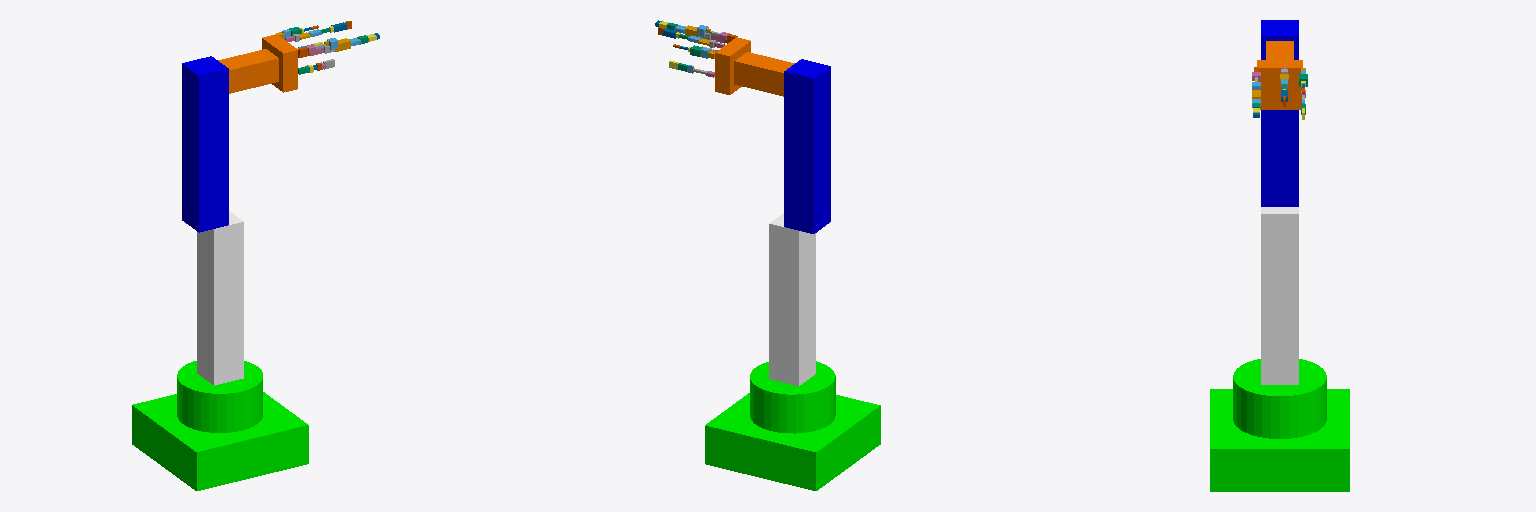
--- Render facts (derived) ---
3 views of the same robot in one strip: view 1: azimuth 30°, elevation 25°; view 2: azimuth 150°, elevation 25°; view 3: azimuth 270°, elevation 25° (orthographic).
Robot: robot — 44 links, 43 joints (40 revolute, 1 continuous, 2 fixed); root link base_link; default pose: all joints at 0.
Links seen in each view (by area): view 1: base_link, arm_link, support_link, wrist_link, palm_link; view 2: base_link, arm_link, support_link, wrist_link, palm_link; view 3: base_link, support_link, arm_link, palm_link, wrist_link.
Boxes of the visible links, <box> form: base_link: <box>132,361,308,490</box>; arm_link: <box>182,56,228,232</box>; support_link: <box>197,211,243,385</box>; wrist_link: <box>218,49,278,93</box>; palm_link: <box>262,34,297,92</box>; base_link: <box>705,361,880,490</box>; arm_link: <box>784,59,830,233</box>; support_link: <box>769,213,815,385</box>; wrist_link: <box>734,52,794,96</box>; palm_link: <box>715,37,750,94</box>; base_link: <box>1210,359,1349,491</box>; support_link: <box>1261,207,1298,384</box>; arm_link: <box>1261,20,1298,206</box>; palm_link: <box>1257,60,1302,109</box>; wrist_link: <box>1266,41,1293,59</box>.
Size in the robot's own frame: 1.36 by 0.75 by 2.55 metres.
Geometry: primitives only (box / cylinder / sphere), no mesh files.

robot.urdf — robot:
<?xml version='1.0' encoding='utf-8'?>
<robot name="robot">
  <link name="base_link">
    <visual>
      <origin xyz="0 0 0.125" rpy="0 0 0" />
      <geometry>
        <box size="0.75 0.75 0.25" />
      </geometry>
      <material name="green" />
    </visual>
    <visual>
      <origin xyz="0 0 0.375" rpy="0 0 0" />
      <geometry>
        <cylinder length="0.25" radius="0.25" />
      </geometry>
      <material name="green">
        <color rgba="0 1 0 1" />
      </material>
    </visual>
    <collision>
      <geometry>
        <box size="0.75 0.75 0.5" />
      </geometry>
    </collision>
    <inertial>
      <mass value="0.5" />
      <inertia ixx="0.034" ixy="0.0" ixz="0.0" iyy="0.034" iyz="0.0" izz="0.034" />
    </inertial>
  </link>
  <link name="support_link">
    <visual>
      <origin xyz="0 0 0.5" rpy="0 0 0" />
      <geometry>
        <box size="0.2 0.2 1" />
      </geometry>
      <material name="white">
        <color rgba="1 1 1 1" />
      </material>
    </visual>
    <collision>
      <geometry>
        <box size="0.2 0.2 1" />
      </geometry>
    </collision>
    <inertial>
      <mass value="0.1" />
      <inertia ixx="0.01" ixy="0.0" ixz="0.0" iyy="0.01" iyz="0.0" izz="0.01" />
    </inertial>
  </link>
  <joint name="support_joint" type="continuous">
    <origin xyz="0 0 0.5" rpy="0 0 0" />
    <parent link="base_link" />
    <child link="support_link" />
    <axis xyz="0 0 1" />
  </joint>
  <link name="arm_link">
    <visual>
      <origin xyz="0 0 0.5" rpy="0 0 0" />
      <geometry>
        <box size="0.2 0.2 1" />
      </geometry>
      <material name="blue">
        <color rgba="0 0 1 1" />
      </material>
    </visual>
    <collision>
      <geometry>
        <box size="0.2 0.2 1" />
      </geometry>
    </collision>
    <inertial>
      <mass value="0.1" />
      <inertia ixx="0.01" ixy="0.0" ixz="0.0" iyy="0.01" iyz="0.0" izz="0.01" />
    </inertial>
  </link>
  <joint name="arm_joint" type="revolute">
    <origin xyz="-0.1 0 1" rpy="0 0 0" />
    <parent link="support_link" />
    <child link="arm_link" />
    <axis xyz="0 1 0" />
    <limit lower="-3.14" upper="3.14" effort="1.0" velocity="1.0" />
  </joint>
  <link name="wrist_link">
    <visual>
      <origin xyz="0 0 0.25" rpy="0 0 0" />
      <geometry>
        <box size="0.15 0.15 0.5" />
      </geometry>
      <material name="orange">
        <color rgba="1 0.5 0 1" />
      </material>
    </visual>
    <collision>
      <geometry>
        <box size="0.15 0.15 0.5" />
      </geometry>
    </collision>
    <inertial>
      <mass value="0.1" />
      <inertia ixx="0.01" ixy="0.0" ixz="0.0" iyy="0.01" iyz="0.0" izz="0.01" />
    </inertial>
  </link>
  <joint name="wrist_joint" type="fixed">
    <origin xyz="0 0 0.9" rpy="0 1.571 0" />
    <parent link="arm_link" />
    <child link="wrist_link" />
  </joint>
  <link name="palm_link">
    <visual>
      <origin xyz="0 0 0.05" rpy="0 0 0" />
      <geometry>
        <box size="0.25 0.25 0.1" />
      </geometry>
      <material name="orange" />
    </visual>
    <collision>
      <geometry>
        <box size="0.25 0.25 0.1" />
      </geometry>
    </collision>
    <inertial>
      <mass value="0.1" />
      <inertia ixx="0.01" ixy="0.0" ixz="0.0" iyy="0.01" iyz="0.0" izz="0.01" />
    </inertial>
  </link>
  <joint name="palm_joint" type="fixed">
    <origin xyz="0 0 0.45" rpy="0 0 0" />
    <parent link="wrist_link" />
    <child link="palm_link" />
  </joint>
  <link name="finger_link_0_0">
    <visual>
      <origin xyz="0 0 0.0385" rpy="0 0 0" />
      <geometry>
        <box size="0.028 0.02 0.077" />
      </geometry>
    </visual>
    <collision>
      <geometry>
        <box size="0.028 0.02 0.077" />
      </geometry>
    </collision>
    <inertial>
      <mass value="0.013" />
      <inertia ixx="0.0" iyy="0.0" izz="0.0" ixy="0" ixz="0" iyz="0" />
    </inertial>
  </link>
  <joint name="finger_joint_palm_link_to_finger_link_0_0" type="revolute">
    <origin xyz="-0.089 -0.125 0.1" rpy="0 0 0" />
    <parent link="palm_link" />
    <child link="finger_link_0_0" />
    <axis xyz="1.0 0.0 0.0" />
    <limit lower="-3.142" upper="3.142" effort="10" velocity="10" />
  </joint>
  <link name="finger_link_0_1">
    <visual>
      <origin xyz="0 0 0.045" rpy="0 0 0" />
      <geometry>
        <box size="0.041 0.014 0.09" />
      </geometry>
    </visual>
    <collision>
      <geometry>
        <box size="0.041 0.014 0.09" />
      </geometry>
    </collision>
    <inertial>
      <mass value="0.015" />
      <inertia ixx="0.0" iyy="0.0" izz="0.0" ixy="0" ixz="0" iyz="0" />
    </inertial>
  </link>
  <joint name="finger_joint_finger_link_0_0_to_finger_link_0_1" type="revolute">
    <origin xyz="0.0 0.0 0.077" rpy="0 0 0" />
    <parent link="finger_link_0_0" />
    <child link="finger_link_0_1" />
    <axis xyz="0.0 1.0 0.0" />
    <limit lower="-3.142" upper="3.142" effort="10" velocity="10" />
  </joint>
  <link name="finger_link_0_2">
    <visual>
      <origin xyz="0 0 0.035" rpy="0 0 0" />
      <geometry>
        <box size="0.041 0.041 0.07" />
      </geometry>
    </visual>
    <collision>
      <geometry>
        <box size="0.041 0.041 0.07" />
      </geometry>
    </collision>
    <inertial>
      <mass value="0.035" />
      <inertia ixx="0.0" iyy="0.0" izz="0.0" ixy="0" ixz="0" iyz="0" />
    </inertial>
  </link>
  <joint name="finger_joint_finger_link_0_1_to_finger_link_0_2" type="revolute">
    <origin xyz="0.0 0.0 0.09" rpy="0 0 0" />
    <parent link="finger_link_0_1" />
    <child link="finger_link_0_2" />
    <axis xyz="0.0 1.0 0.0" />
    <limit lower="-3.142" upper="3.142" effort="10" velocity="10" />
  </joint>
  <link name="finger_link_0_3">
    <visual>
      <origin xyz="0 0 0.0495" rpy="0 0 0" />
      <geometry>
        <box size="0.048 0.047 0.099" />
      </geometry>
    </visual>
    <collision>
      <geometry>
        <box size="0.048 0.047 0.099" />
      </geometry>
    </collision>
    <inertial>
      <mass value="0.067" />
      <inertia ixx="0.0" iyy="0.0" izz="0.0" ixy="0" ixz="0" iyz="0" />
    </inertial>
  </link>
  <joint name="finger_joint_finger_link_0_2_to_finger_link_0_3" type="revolute">
    <origin xyz="0.0 0.0 0.07" rpy="0 0 0" />
    <parent link="finger_link_0_2" />
    <child link="finger_link_0_3" />
    <axis xyz="1.0 0.0 0.0" />
    <limit lower="-3.142" upper="3.142" effort="10" velocity="10" />
  </joint>
  <link name="finger_link_0_4">
    <visual>
      <origin xyz="0 0 0.034" rpy="0 0 0" />
      <geometry>
        <box size="0.023 0.049 0.068" />
      </geometry>
    </visual>
    <collision>
      <geometry>
        <box size="0.023 0.049 0.068" />
      </geometry>
    </collision>
    <inertial>
      <mass value="0.023" />
      <inertia ixx="0.0" iyy="0.0" izz="0.0" ixy="0" ixz="0" iyz="0" />
    </inertial>
  </link>
  <joint name="finger_joint_finger_link_0_3_to_finger_link_0_4" type="revolute">
    <origin xyz="0.0 0.0 0.099" rpy="0 0 0" />
    <parent link="finger_link_0_3" />
    <child link="finger_link_0_4" />
    <axis xyz="1.0 0.0 0.0" />
    <limit lower="-3.142" upper="3.142" effort="10" velocity="10" />
  </joint>
  <link name="finger_link_0_5">
    <visual>
      <origin xyz="0 0 0.027" rpy="0 0 0" />
      <geometry>
        <box size="0.035 0.034 0.054" />
      </geometry>
    </visual>
    <collision>
      <geometry>
        <box size="0.035 0.034 0.054" />
      </geometry>
    </collision>
    <inertial>
      <mass value="0.019" />
      <inertia ixx="0.0" iyy="0.0" izz="0.0" ixy="0" ixz="0" iyz="0" />
    </inertial>
  </link>
  <joint name="finger_joint_finger_link_0_4_to_finger_link_0_5" type="revolute">
    <origin xyz="0.0 0.0 0.068" rpy="0 0 0" />
    <parent link="finger_link_0_4" />
    <child link="finger_link_0_5" />
    <axis xyz="1.0 0.0 0.0" />
    <limit lower="-3.142" upper="3.142" effort="10" velocity="10" />
  </joint>
  <link name="finger_link_0_6">
    <visual>
      <origin xyz="0 0 0.026" rpy="0 0 0" />
      <geometry>
        <box size="0.026 0.04 0.052" />
      </geometry>
    </visual>
    <collision>
      <geometry>
        <box size="0.026 0.04 0.052" />
      </geometry>
    </collision>
    <inertial>
      <mass value="0.016" />
      <inertia ixx="0.0" iyy="0.0" izz="0.0" ixy="0" ixz="0" iyz="0" />
    </inertial>
  </link>
  <joint name="finger_joint_finger_link_0_5_to_finger_link_0_6" type="revolute">
    <origin xyz="0.0 0.0 0.054" rpy="0 0 0" />
    <parent link="finger_link_0_5" />
    <child link="finger_link_0_6" />
    <axis xyz="0.0 1.0 0.0" />
    <limit lower="-3.142" upper="3.142" effort="10" velocity="10" />
  </joint>
  <link name="finger_link_0_7">
    <visual>
      <origin xyz="0 0 0.013" rpy="0 0 0" />
      <geometry>
        <box size="0.022 0.037 0.026" />
      </geometry>
    </visual>
    <collision>
      <geometry>
        <box size="0.022 0.037 0.026" />
      </geometry>
    </collision>
    <inertial>
      <mass value="0.006" />
      <inertia ixx="0.0" iyy="0.0" izz="0.0" ixy="0" ixz="0" iyz="0" />
    </inertial>
  </link>
  <joint name="finger_joint_finger_link_0_6_to_finger_link_0_7" type="revolute">
    <origin xyz="0.0 0.0 0.052" rpy="0 0 0" />
    <parent link="finger_link_0_6" />
    <child link="finger_link_0_7" />
    <axis xyz="1.0 0.0 0.0" />
    <limit lower="-3.142" upper="3.142" effort="10" velocity="10" />
  </joint>
  <link name="finger_link_1_0">
    <visual>
      <origin xyz="0 0 0.0295" rpy="0 0 0" />
      <geometry>
        <box size="0.031 0.028 0.059" />
      </geometry>
    </visual>
    <collision>
      <geometry>
        <box size="0.031 0.028 0.059" />
      </geometry>
    </collision>
    <inertial>
      <mass value="0.015" />
      <inertia ixx="0.0" iyy="0.0" izz="0.0" ixy="0" ixz="0" iyz="0" />
    </inertial>
  </link>
  <joint name="finger_joint_palm_link_to_finger_link_1_0" type="revolute">
    <origin xyz="-0.112 -0.125 0.1" rpy="0 0 0" />
    <parent link="palm_link" />
    <child link="finger_link_1_0" />
    <axis xyz="1.0 0.0 0.0" />
    <limit lower="-3.142" upper="3.142" effort="10" velocity="10" />
  </joint>
  <link name="finger_link_1_1">
    <visual>
      <origin xyz="0 0 0.0235" rpy="0 0 0" />
      <geometry>
        <box size="0.029 0.044 0.047" />
      </geometry>
    </visual>
    <collision>
      <geometry>
        <box size="0.029 0.044 0.047" />
      </geometry>
    </collision>
    <inertial>
      <mass value="0.018" />
      <inertia ixx="0.0" iyy="0.0" izz="0.0" ixy="0" ixz="0" iyz="0" />
    </inertial>
  </link>
  <joint name="finger_joint_finger_link_1_0_to_finger_link_1_1" type="revolute">
    <origin xyz="0.0 0.0 0.059" rpy="0 0 0" />
    <parent link="finger_link_1_0" />
    <child link="finger_link_1_1" />
    <axis xyz="0.0 1.0 0.0" />
    <limit lower="-3.142" upper="3.142" effort="10" velocity="10" />
  </joint>
  <link name="finger_link_1_2">
    <visual>
      <origin xyz="0 0 0.0355" rpy="0 0 0" />
      <geometry>
        <box size="0.018 0.017 0.071" />
      </geometry>
    </visual>
    <collision>
      <geometry>
        <box size="0.018 0.017 0.071" />
      </geometry>
    </collision>
    <inertial>
      <mass value="0.007" />
      <inertia ixx="0.0" iyy="0.0" izz="0.0" ixy="0" ixz="0" iyz="0" />
    </inertial>
  </link>
  <joint name="finger_joint_finger_link_1_1_to_finger_link_1_2" type="revolute">
    <origin xyz="0.0 0.0 0.047" rpy="0 0 0" />
    <parent link="finger_link_1_1" />
    <child link="finger_link_1_2" />
    <axis xyz="1.0 0.0 0.0" />
    <limit lower="-3.142" upper="3.142" effort="10" velocity="10" />
  </joint>
  <link name="finger_link_1_3">
    <visual>
      <origin xyz="0 0 0.0125" rpy="0 0 0" />
      <geometry>
        <box size="0.042 0.017 0.025" />
      </geometry>
    </visual>
    <collision>
      <geometry>
        <box size="0.042 0.017 0.025" />
      </geometry>
    </collision>
    <inertial>
      <mass value="0.005" />
      <inertia ixx="0.0" iyy="0.0" izz="0.0" ixy="0" ixz="0" iyz="0" />
    </inertial>
  </link>
  <joint name="finger_joint_finger_link_1_2_to_finger_link_1_3" type="revolute">
    <origin xyz="0.0 0.0 0.071" rpy="0 0 0" />
    <parent link="finger_link_1_2" />
    <child link="finger_link_1_3" />
    <axis xyz="1.0 0.0 0.0" />
    <limit lower="-3.142" upper="3.142" effort="10" velocity="10" />
  </joint>
  <link name="finger_link_1_4">
    <visual>
      <origin xyz="0 0 0.0255" rpy="0 0 0" />
      <geometry>
        <box size="0.047 0.049 0.051" />
      </geometry>
    </visual>
    <collision>
      <geometry>
        <box size="0.047 0.049 0.051" />
      </geometry>
    </collision>
    <inertial>
      <mass value="0.035" />
      <inertia ixx="0.0" iyy="0.0" izz="0.0" ixy="0" ixz="0" iyz="0" />
    </inertial>
  </link>
  <joint name="finger_joint_finger_link_1_3_to_finger_link_1_4" type="revolute">
    <origin xyz="0.0 0.0 0.025" rpy="0 0 0" />
    <parent link="finger_link_1_3" />
    <child link="finger_link_1_4" />
    <axis xyz="1.0 0.0 0.0" />
    <limit lower="-3.142" upper="3.142" effort="10" velocity="10" />
  </joint>
  <link name="finger_link_2_0">
    <visual>
      <origin xyz="0 0 0.0345" rpy="0 0 0" />
      <geometry>
        <box size="0.032 0.023 0.069" />
      </geometry>
    </visual>
    <collision>
      <geometry>
        <box size="0.032 0.023 0.069" />
      </geometry>
    </collision>
    <inertial>
      <mass value="0.015" />
      <inertia ixx="0.0" iyy="0.0" izz="0.0" ixy="0" ixz="0" iyz="0" />
    </inertial>
  </link>
  <joint name="finger_joint_palm_link_to_finger_link_2_0" type="revolute">
    <origin xyz="0.014 -0.125 0.1" rpy="0 0 0" />
    <parent link="palm_link" />
    <child link="finger_link_2_0" />
    <axis xyz="1.0 0.0 0.0" />
    <limit lower="-3.142" upper="3.142" effort="10" velocity="10" />
  </joint>
  <link name="finger_link_2_1">
    <visual>
      <origin xyz="0 0 0.011" rpy="0 0 0" />
      <geometry>
        <box size="0.036 0.034 0.022" />
      </geometry>
    </visual>
    <collision>
      <geometry>
        <box size="0.036 0.034 0.022" />
      </geometry>
    </collision>
    <inertial>
      <mass value="0.008" />
      <inertia ixx="0.0" iyy="0.0" izz="0.0" ixy="0" ixz="0" iyz="0" />
    </inertial>
  </link>
  <joint name="finger_joint_finger_link_2_0_to_finger_link_2_1" type="revolute">
    <origin xyz="0.0 0.0 0.069" rpy="0 0 0" />
    <parent link="finger_link_2_0" />
    <child link="finger_link_2_1" />
    <axis xyz="1.0 0.0 0.0" />
    <limit lower="-3.142" upper="3.142" effort="10" velocity="10" />
  </joint>
  <link name="finger_link_2_2">
    <visual>
      <origin xyz="0 0 0.016" rpy="0 0 0" />
      <geometry>
        <box size="0.014 0.037 0.032" />
      </geometry>
    </visual>
    <collision>
      <geometry>
        <box size="0.014 0.037 0.032" />
      </geometry>
    </collision>
    <inertial>
      <mass value="0.005" />
      <inertia ixx="0.0" iyy="0.0" izz="0.0" ixy="0" ixz="0" iyz="0" />
    </inertial>
  </link>
  <joint name="finger_joint_finger_link_2_1_to_finger_link_2_2" type="revolute">
    <origin xyz="0.0 0.0 0.022" rpy="0 0 0" />
    <parent link="finger_link_2_1" />
    <child link="finger_link_2_2" />
    <axis xyz="0.0 1.0 0.0" />
    <limit lower="-3.142" upper="3.142" effort="10" velocity="10" />
  </joint>
  <link name="finger_link_2_3">
    <visual>
      <origin xyz="0 0 0.012" rpy="0 0 0" />
      <geometry>
        <box size="0.038 0.026 0.024" />
      </geometry>
    </visual>
    <collision>
      <geometry>
        <box size="0.038 0.026 0.024" />
      </geometry>
    </collision>
    <inertial>
      <mass value="0.007" />
      <inertia ixx="0.0" iyy="0.0" izz="0.0" ixy="0" ixz="0" iyz="0" />
    </inertial>
  </link>
  <joint name="finger_joint_finger_link_2_2_to_finger_link_2_3" type="revolute">
    <origin xyz="0.0 0.0 0.032" rpy="0 0 0" />
    <parent link="finger_link_2_2" />
    <child link="finger_link_2_3" />
    <axis xyz="0.0 1.0 0.0" />
    <limit lower="-3.142" upper="3.142" effort="10" velocity="10" />
  </joint>
  <link name="finger_link_2_4">
    <visual>
      <origin xyz="0 0 0.011" rpy="0 0 0" />
      <geometry>
        <box size="0.025 0.043 0.022" />
      </geometry>
    </visual>
    <collision>
      <geometry>
        <box size="0.025 0.043 0.022" />
      </geometry>
    </collision>
    <inertial>
      <mass value="0.007" />
      <inertia ixx="0.0" iyy="0.0" izz="0.0" ixy="0" ixz="0" iyz="0" />
    </inertial>
  </link>
  <joint name="finger_joint_finger_link_2_3_to_finger_link_2_4" type="revolute">
    <origin xyz="0.0 0.0 0.024" rpy="0 0 0" />
    <parent link="finger_link_2_3" />
    <child link="finger_link_2_4" />
    <axis xyz="1.0 0.0 0.0" />
    <limit lower="-3.142" upper="3.142" effort="10" velocity="10" />
  </joint>
  <link name="finger_link_2_5">
    <visual>
      <origin xyz="0 0 0.0335" rpy="0 0 0" />
      <geometry>
        <box size="0.044 0.019 0.067" />
      </geometry>
    </visual>
    <collision>
      <geometry>
        <box size="0.044 0.019 0.067" />
      </geometry>
    </collision>
    <inertial>
      <mass value="0.017" />
      <inertia ixx="0.0" iyy="0.0" izz="0.0" ixy="0" ixz="0" iyz="0" />
    </inertial>
  </link>
  <joint name="finger_joint_finger_link_2_4_to_finger_link_2_5" type="revolute">
    <origin xyz="0.0 0.0 0.022" rpy="0 0 0" />
    <parent link="finger_link_2_4" />
    <child link="finger_link_2_5" />
    <axis xyz="1.0 0.0 0.0" />
    <limit lower="-3.142" upper="3.142" effort="10" velocity="10" />
  </joint>
  <link name="finger_link_3_0">
    <visual>
      <origin xyz="0 0 0.02" rpy="0 0 0" />
      <geometry>
        <box size="0.032 0.03 0.04" />
      </geometry>
    </visual>
    <collision>
      <geometry>
        <box size="0.032 0.03 0.04" />
      </geometry>
    </collision>
    <inertial>
      <mass value="0.012" />
      <inertia ixx="0.0" iyy="0.0" izz="0.0" ixy="0" ixz="0" iyz="0" />
    </inertial>
  </link>
  <joint name="finger_joint_palm_link_to_finger_link_3_0" type="revolute">
    <origin xyz="-0.107 0.125 0.1" rpy="0 0 0" />
    <parent link="palm_link" />
    <child link="finger_link_3_0" />
    <axis xyz="-1.0 0.0 0.0" />
    <limit lower="-3.142" upper="3.142" effort="10" velocity="10" />
  </joint>
  <link name="finger_link_3_1">
    <visual>
      <origin xyz="0 0 0.024" rpy="0 0 0" />
      <geometry>
        <box size="0.048 0.03 0.048" />
      </geometry>
    </visual>
    <collision>
      <geometry>
        <box size="0.048 0.03 0.048" />
      </geometry>
    </collision>
    <inertial>
      <mass value="0.021" />
      <inertia ixx="0.0" iyy="0.0" izz="0.0" ixy="0" ixz="0" iyz="0" />
    </inertial>
  </link>
  <joint name="finger_joint_finger_link_3_0_to_finger_link_3_1" type="revolute">
    <origin xyz="0.0 0.0 0.04" rpy="0 0 0" />
    <parent link="finger_link_3_0" />
    <child link="finger_link_3_1" />
    <axis xyz="1.0 0.0 0.0" />
    <limit lower="-3.142" upper="3.142" effort="10" velocity="10" />
  </joint>
  <link name="finger_link_3_2">
    <visual>
      <origin xyz="0 0 0.0325" rpy="0 0 0" />
      <geometry>
        <box size="0.043 0.047 0.065" />
      </geometry>
    </visual>
    <collision>
      <geometry>
        <box size="0.043 0.047 0.065" />
      </geometry>
    </collision>
    <inertial>
      <mass value="0.039" />
      <inertia ixx="0.0" iyy="0.0" izz="0.0" ixy="0" ixz="0" iyz="0" />
    </inertial>
  </link>
  <joint name="finger_joint_finger_link_3_1_to_finger_link_3_2" type="revolute">
    <origin xyz="0.0 0.0 0.048" rpy="0 0 0" />
    <parent link="finger_link_3_1" />
    <child link="finger_link_3_2" />
    <axis xyz="0.0 1.0 0.0" />
    <limit lower="-3.142" upper="3.142" effort="10" velocity="10" />
  </joint>
  <link name="finger_link_3_3">
    <visual>
      <origin xyz="0 0 0.011" rpy="0 0 0" />
      <geometry>
        <box size="0.022 0.022 0.022" />
      </geometry>
    </visual>
    <collision>
      <geometry>
        <box size="0.022 0.022 0.022" />
      </geometry>
    </collision>
    <inertial>
      <mass value="0.003" />
      <inertia ixx="0.0" iyy="0.0" izz="0.0" ixy="0" ixz="0" iyz="0" />
    </inertial>
  </link>
  <joint name="finger_joint_finger_link_3_2_to_finger_link_3_3" type="revolute">
    <origin xyz="0.0 0.0 0.065" rpy="0 0 0" />
    <parent link="finger_link_3_2" />
    <child link="finger_link_3_3" />
    <axis xyz="1.0 0.0 0.0" />
    <limit lower="-3.142" upper="3.142" effort="10" velocity="10" />
  </joint>
  <link name="finger_link_3_4">
    <visual>
      <origin xyz="0 0 0.028" rpy="0 0 0" />
      <geometry>
        <box size="0.011 0.015 0.056" />
      </geometry>
    </visual>
    <collision>
      <geometry>
        <box size="0.011 0.015 0.056" />
      </geometry>
    </collision>
    <inertial>
      <mass value="0.003" />
      <inertia ixx="0.0" iyy="0.0" izz="0.0" ixy="0" ixz="0" iyz="0" />
    </inertial>
  </link>
  <joint name="finger_joint_finger_link_3_3_to_finger_link_3_4" type="revolute">
    <origin xyz="0.0 0.0 0.022" rpy="0 0 0" />
    <parent link="finger_link_3_3" />
    <child link="finger_link_3_4" />
    <axis xyz="1.0 0.0 0.0" />
    <limit lower="-3.142" upper="3.142" effort="10" velocity="10" />
  </joint>
  <link name="finger_link_3_5">
    <visual>
      <origin xyz="0 0 0.023" rpy="0 0 0" />
      <geometry>
        <box size="0.011 0.019 0.046" />
      </geometry>
    </visual>
    <collision>
      <geometry>
        <box size="0.011 0.019 0.046" />
      </geometry>
    </collision>
    <inertial>
      <mass value="0.003" />
      <inertia ixx="0.0" iyy="0.0" izz="0.0" ixy="0" ixz="0" iyz="0" />
    </inertial>
  </link>
  <joint name="finger_joint_finger_link_3_4_to_finger_link_3_5" type="revolute">
    <origin xyz="0.0 0.0 0.056" rpy="0 0 0" />
    <parent link="finger_link_3_4" />
    <child link="finger_link_3_5" />
    <axis xyz="0.0 1.0 0.0" />
    <limit lower="-3.142" upper="3.142" effort="10" velocity="10" />
  </joint>
  <link name="finger_link_4_0">
    <visual>
      <origin xyz="0 0 0.0295" rpy="0 0 0" />
      <geometry>
        <box size="0.025 0.017 0.059" />
      </geometry>
    </visual>
    <collision>
      <geometry>
        <box size="0.025 0.017 0.059" />
      </geometry>
    </collision>
    <inertial>
      <mass value="0.008" />
      <inertia ixx="0.0" iyy="0.0" izz="0.0" ixy="0" ixz="0" iyz="0" />
    </inertial>
  </link>
  <joint name="finger_joint_palm_link_to_finger_link_4_0" type="revolute">
    <origin xyz="-0.125 0.024 0.1" rpy="0 0 0" />
    <parent link="palm_link" />
    <child link="finger_link_4_0" />
    <axis xyz="0.0 -1.0 0.0" />
    <limit lower="-3.142" upper="3.142" effort="10" velocity="10" />
  </joint>
  <link name="finger_link_4_1">
    <visual>
      <origin xyz="0 0 0.0135" rpy="0 0 0" />
      <geometry>
        <box size="0.036 0.035 0.027" />
      </geometry>
    </visual>
    <collision>
      <geometry>
        <box size="0.036 0.035 0.027" />
      </geometry>
    </collision>
    <inertial>
      <mass value="0.01" />
      <inertia ixx="0.0" iyy="0.0" izz="0.0" ixy="0" ixz="0" iyz="0" />
    </inertial>
  </link>
  <joint name="finger_joint_finger_link_4_0_to_finger_link_4_1" type="revolute">
    <origin xyz="0.0 0.0 0.059" rpy="0 0 0" />
    <parent link="finger_link_4_0" />
    <child link="finger_link_4_1" />
    <axis xyz="0.0 1.0 0.0" />
    <limit lower="-3.142" upper="3.142" effort="10" velocity="10" />
  </joint>
  <link name="finger_link_4_2">
    <visual>
      <origin xyz="0 0 0.036" rpy="0 0 0" />
      <geometry>
        <box size="0.012 0.048 0.072" />
      </geometry>
    </visual>
    <collision>
      <geometry>
        <box size="0.012 0.048 0.072" />
      </geometry>
    </collision>
    <inertial>
      <mass value="0.012" />
      <inertia ixx="0.0" iyy="0.0" izz="0.0" ixy="0" ixz="0" iyz="0" />
    </inertial>
  </link>
  <joint name="finger_joint_finger_link_4_1_to_finger_link_4_2" type="revolute">
    <origin xyz="0.0 0.0 0.027" rpy="0 0 0" />
    <parent link="finger_link_4_1" />
    <child link="finger_link_4_2" />
    <axis xyz="0.0 1.0 0.0" />
    <limit lower="-3.142" upper="3.142" effort="10" velocity="10" />
  </joint>
  <link name="finger_link_4_3">
    <visual>
      <origin xyz="0 0 0.036" rpy="0 0 0" />
      <geometry>
        <box size="0.021 0.038 0.072" />
      </geometry>
    </visual>
    <collision>
      <geometry>
        <box size="0.021 0.038 0.072" />
      </geometry>
    </collision>
    <inertial>
      <mass value="0.017" />
      <inertia ixx="0.0" iyy="0.0" izz="0.0" ixy="0" ixz="0" iyz="0" />
    </inertial>
  </link>
  <joint name="finger_joint_finger_link_4_2_to_finger_link_4_3" type="revolute">
    <origin xyz="0.0 0.0 0.072" rpy="0 0 0" />
    <parent link="finger_link_4_2" />
    <child link="finger_link_4_3" />
    <axis xyz="0.0 1.0 0.0" />
    <limit lower="-3.142" upper="3.142" effort="10" velocity="10" />
  </joint>
  <link name="finger_link_4_4">
    <visual>
      <origin xyz="0 0 0.0325" rpy="0 0 0" />
      <geometry>
        <box size="0.019 0.013 0.065" />
      </geometry>
    </visual>
    <collision>
      <geometry>
        <box size="0.019 0.013 0.065" />
      </geometry>
    </collision>
    <inertial>
      <mass value="0.005" />
      <inertia ixx="0.0" iyy="0.0" izz="0.0" ixy="0" ixz="0" iyz="0" />
    </inertial>
  </link>
  <joint name="finger_joint_finger_link_4_3_to_finger_link_4_4" type="revolute">
    <origin xyz="0.0 0.0 0.072" rpy="0 0 0" />
    <parent link="finger_link_4_3" />
    <child link="finger_link_4_4" />
    <axis xyz="0.0 1.0 0.0" />
    <limit lower="-3.142" upper="3.142" effort="10" velocity="10" />
  </joint>
  <link name="finger_link_4_5">
    <visual>
      <origin xyz="0 0 0.01" rpy="0 0 0" />
      <geometry>
        <box size="0.03 0.021 0.02" />
      </geometry>
    </visual>
    <collision>
      <geometry>
        <box size="0.03 0.021 0.02" />
      </geometry>
    </collision>
    <inertial>
      <mass value="0.004" />
      <inertia ixx="0.0" iyy="0.0" izz="0.0" ixy="0" ixz="0" iyz="0" />
    </inertial>
  </link>
  <joint name="finger_joint_finger_link_4_4_to_finger_link_4_5" type="revolute">
    <origin xyz="0.0 0.0 0.065" rpy="0 0 0" />
    <parent link="finger_link_4_4" />
    <child link="finger_link_4_5" />
    <axis xyz="0.0 1.0 0.0" />
    <limit lower="-3.142" upper="3.142" effort="10" velocity="10" />
  </joint>
  <link name="finger_link_4_6">
    <visual>
      <origin xyz="0 0 0.0425" rpy="0 0 0" />
      <geometry>
        <box size="0.033 0.034 0.085" />
      </geometry>
    </visual>
    <collision>
      <geometry>
        <box size="0.033 0.034 0.085" />
      </geometry>
    </collision>
    <inertial>
      <mass value="0.029" />
      <inertia ixx="0.0" iyy="0.0" izz="0.0" ixy="0" ixz="0" iyz="0" />
    </inertial>
  </link>
  <joint name="finger_joint_finger_link_4_5_to_finger_link_4_6" type="revolute">
    <origin xyz="0.0 0.0 0.02" rpy="0 0 0" />
    <parent link="finger_link_4_5" />
    <child link="finger_link_4_6" />
    <axis xyz="0.0 1.0 0.0" />
    <limit lower="-3.142" upper="3.142" effort="10" velocity="10" />
  </joint>
  <link name="finger_link_4_7">
    <visual>
      <origin xyz="0 0 0.019" rpy="0 0 0" />
      <geometry>
        <box size="0.046 0.013 0.038" />
      </geometry>
    </visual>
    <collision>
      <geometry>
        <box size="0.046 0.013 0.038" />
      </geometry>
    </collision>
    <inertial>
      <mass value="0.007" />
      <inertia ixx="0.0" iyy="0.0" izz="0.0" ixy="0" ixz="0" iyz="0" />
    </inertial>
  </link>
  <joint name="finger_joint_finger_link_4_6_to_finger_link_4_7" type="revolute">
    <origin xyz="0.0 0.0 0.085" rpy="0 0 0" />
    <parent link="finger_link_4_6" />
    <child link="finger_link_4_7" />
    <axis xyz="1.0 0.0 0.0" />
    <limit lower="-3.142" upper="3.142" effort="10" velocity="10" />
  </joint>
  <link name="finger_link_5_0">
    <visual>
      <origin xyz="0 0 0.025" rpy="0 0 0" />
      <geometry>
        <box size="0.022 0.03 0.05" />
      </geometry>
    </visual>
    <collision>
      <geometry>
        <box size="0.022 0.03 0.05" />
      </geometry>
    </collision>
    <inertial>
      <mass value="0.01" />
      <inertia ixx="0.0" iyy="0.0" izz="0.0" ixy="0" ixz="0" iyz="0" />
    </inertial>
  </link>
  <joint name="finger_joint_palm_link_to_finger_link_5_0" type="revolute">
    <origin xyz="0.018 0.125 0.1" rpy="0 0 0" />
    <parent link="palm_link" />
    <child link="finger_link_5_0" />
    <axis xyz="-1.0 0.0 0.0" />
    <limit lower="-3.142" upper="3.142" effort="10" velocity="10" />
  </joint>
  <link name="finger_link_5_1">
    <visual>
      <origin xyz="0 0 0.0385" rpy="0 0 0" />
      <geometry>
        <box size="0.014 0.019 0.077" />
      </geometry>
    </visual>
    <collision>
      <geometry>
        <box size="0.014 0.019 0.077" />
      </geometry>
    </collision>
    <inertial>
      <mass value="0.006" />
      <inertia ixx="0.0" iyy="0.0" izz="0.0" ixy="0" ixz="0" iyz="0" />
    </inertial>
  </link>
  <joint name="finger_joint_finger_link_5_0_to_finger_link_5_1" type="revolute">
    <origin xyz="0.0 0.0 0.05" rpy="0 0 0" />
    <parent link="finger_link_5_0" />
    <child link="finger_link_5_1" />
    <axis xyz="1.0 0.0 0.0" />
    <limit lower="-3.142" upper="3.142" effort="10" velocity="10" />
  </joint>
  <link name="finger_link_5_2">
    <visual>
      <origin xyz="0 0 0.01" rpy="0 0 0" />
      <geometry>
        <box size="0.014 0.017 0.02" />
      </geometry>
    </visual>
    <collision>
      <geometry>
        <box size="0.014 0.017 0.02" />
      </geometry>
    </collision>
    <inertial>
      <mass value="0.001" />
      <inertia ixx="0.0" iyy="0.0" izz="0.0" ixy="0" ixz="0" iyz="0" />
    </inertial>
  </link>
  <joint name="finger_joint_finger_link_5_1_to_finger_link_5_2" type="revolute">
    <origin xyz="0.0 0.0 0.077" rpy="0 0 0" />
    <parent link="finger_link_5_1" />
    <child link="finger_link_5_2" />
    <axis xyz="0.0 1.0 0.0" />
    <limit lower="-3.142" upper="3.142" effort="10" velocity="10" />
  </joint>
  <link name="finger_link_5_3">
    <visual>
      <origin xyz="0 0 0.0195" rpy="0 0 0" />
      <geometry>
        <box size="0.045 0.012 0.039" />
      </geometry>
    </visual>
    <collision>
      <geometry>
        <box size="0.045 0.012 0.039" />
      </geometry>
    </collision>
    <inertial>
      <mass value="0.006" />
      <inertia ixx="0.0" iyy="0.0" izz="0.0" ixy="0" ixz="0" iyz="0" />
    </inertial>
  </link>
  <joint name="finger_joint_finger_link_5_2_to_finger_link_5_3" type="revolute">
    <origin xyz="0.0 0.0 0.02" rpy="0 0 0" />
    <parent link="finger_link_5_2" />
    <child link="finger_link_5_3" />
    <axis xyz="0.0 1.0 0.0" />
    <limit lower="-3.142" upper="3.142" effort="10" velocity="10" />
  </joint>
  <link name="finger_link_5_4">
    <visual>
      <origin xyz="0 0 0.0295" rpy="0 0 0" />
      <geometry>
        <box size="0.035 0.022 0.059" />
      </geometry>
    </visual>
    <collision>
      <geometry>
        <box size="0.035 0.022 0.059" />
      </geometry>
    </collision>
    <inertial>
      <mass value="0.014" />
      <inertia ixx="0.0" iyy="0.0" izz="0.0" ixy="0" ixz="0" iyz="0" />
    </inertial>
  </link>
  <joint name="finger_joint_finger_link_5_3_to_finger_link_5_4" type="revolute">
    <origin xyz="0.0 0.0 0.039" rpy="0 0 0" />
    <parent link="finger_link_5_3" />
    <child link="finger_link_5_4" />
    <axis xyz="0.0 1.0 0.0" />
    <limit lower="-3.142" upper="3.142" effort="10" velocity="10" />
  </joint>
  <link name="finger_link_5_5">
    <visual>
      <origin xyz="0 0 0.03" rpy="0 0 0" />
      <geometry>
        <box size="0.041 0.017 0.06" />
      </geometry>
    </visual>
    <collision>
      <geometry>
        <box size="0.041 0.017 0.06" />
      </geometry>
    </collision>
    <inertial>
      <mass value="0.013" />
      <inertia ixx="0.0" iyy="0.0" izz="0.0" ixy="0" ixz="0" iyz="0" />
    </inertial>
  </link>
  <joint name="finger_joint_finger_link_5_4_to_finger_link_5_5" type="revolute">
    <origin xyz="0.0 0.0 0.059" rpy="0 0 0" />
    <parent link="finger_link_5_4" />
    <child link="finger_link_5_5" />
    <axis xyz="0.0 1.0 0.0" />
    <limit lower="-3.142" upper="3.142" effort="10" velocity="10" />
  </joint>
</robot>
